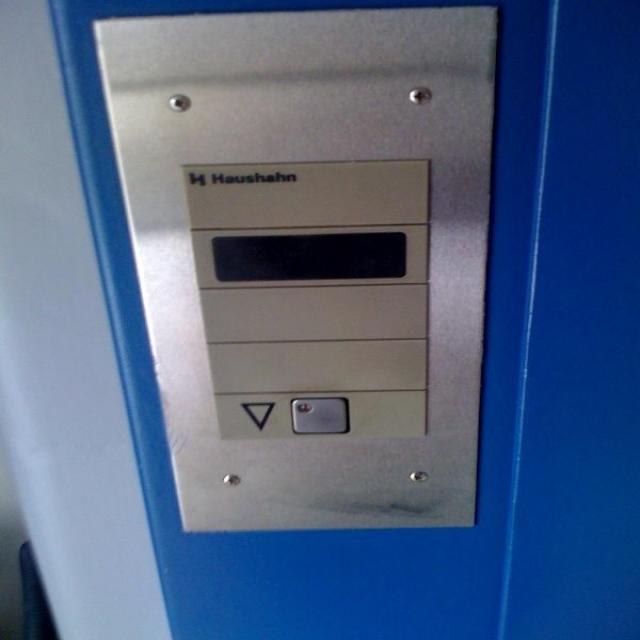down: (207, 386, 430, 440)
led: (207, 228, 412, 282)
